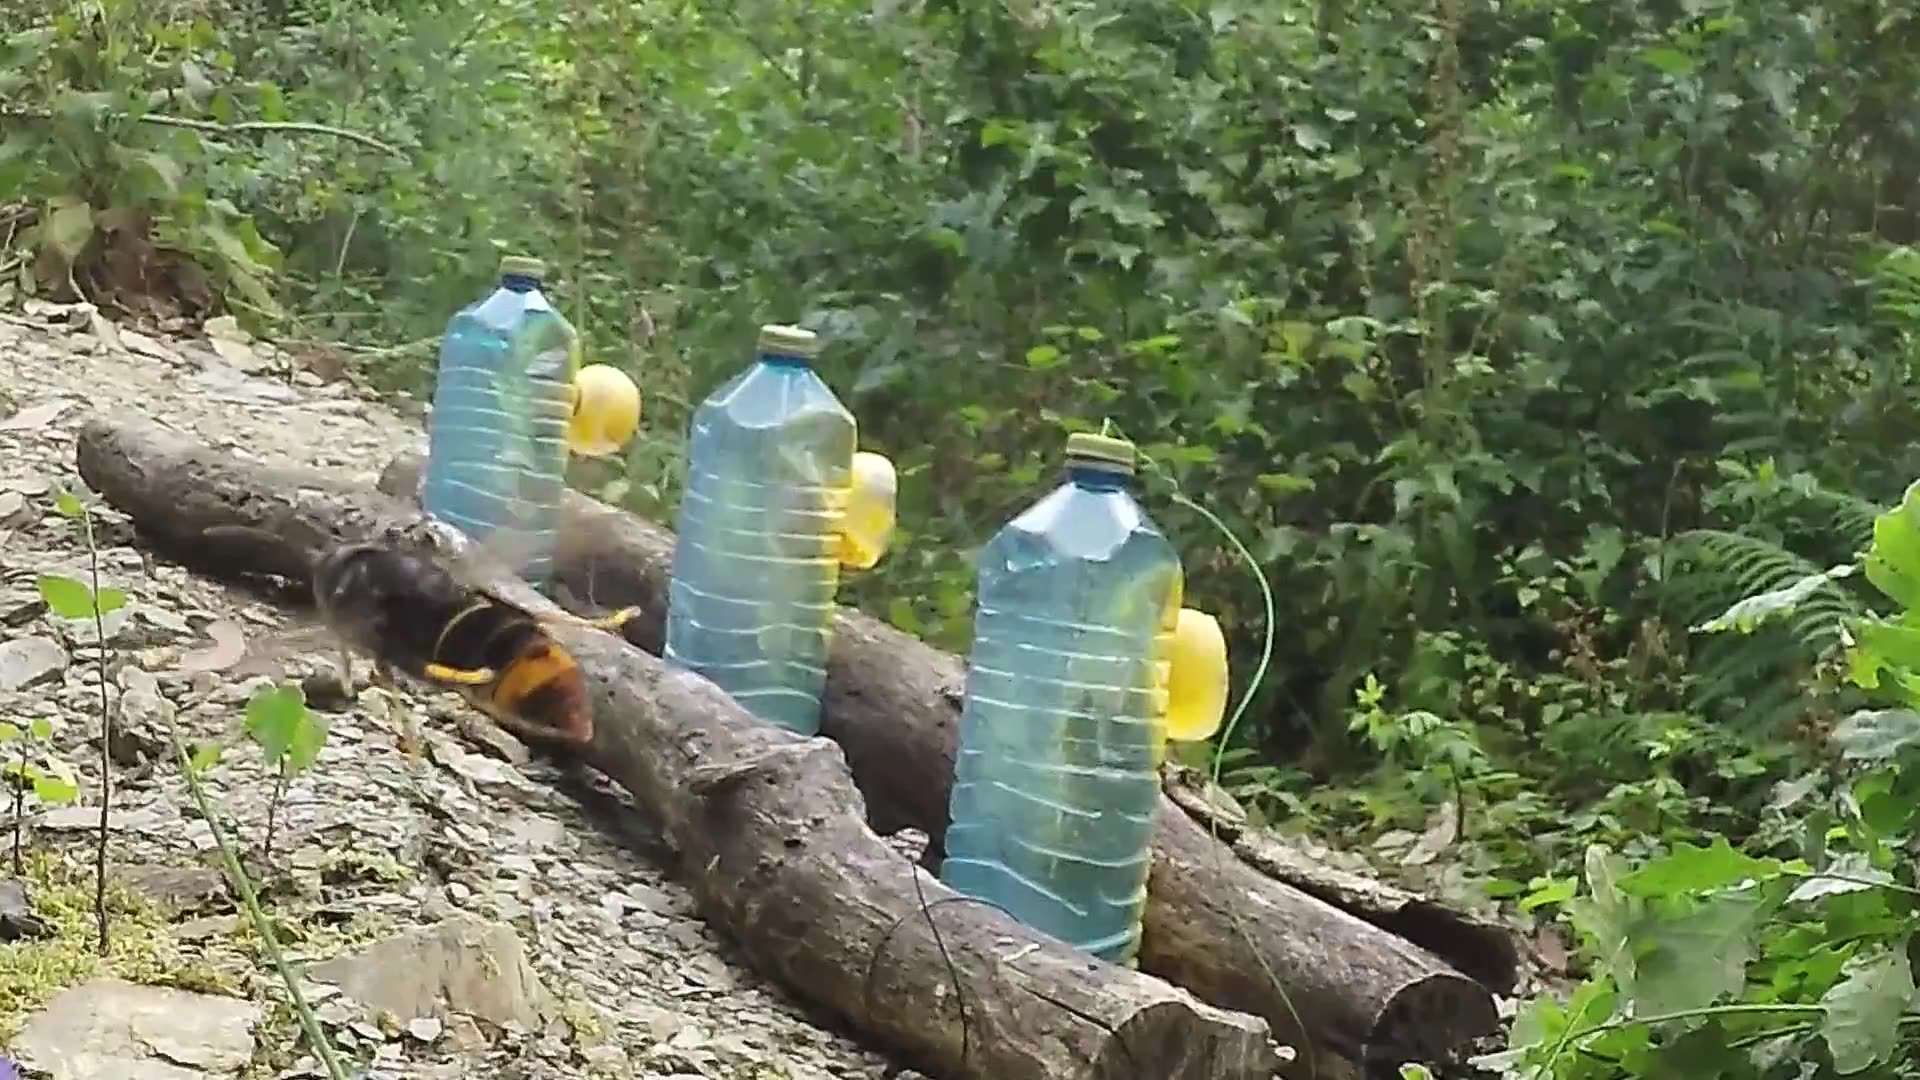hornet: (290, 524, 611, 764)
